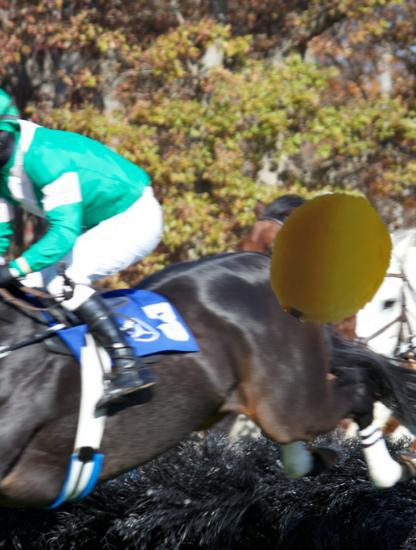Peach: (261, 189, 400, 328)
